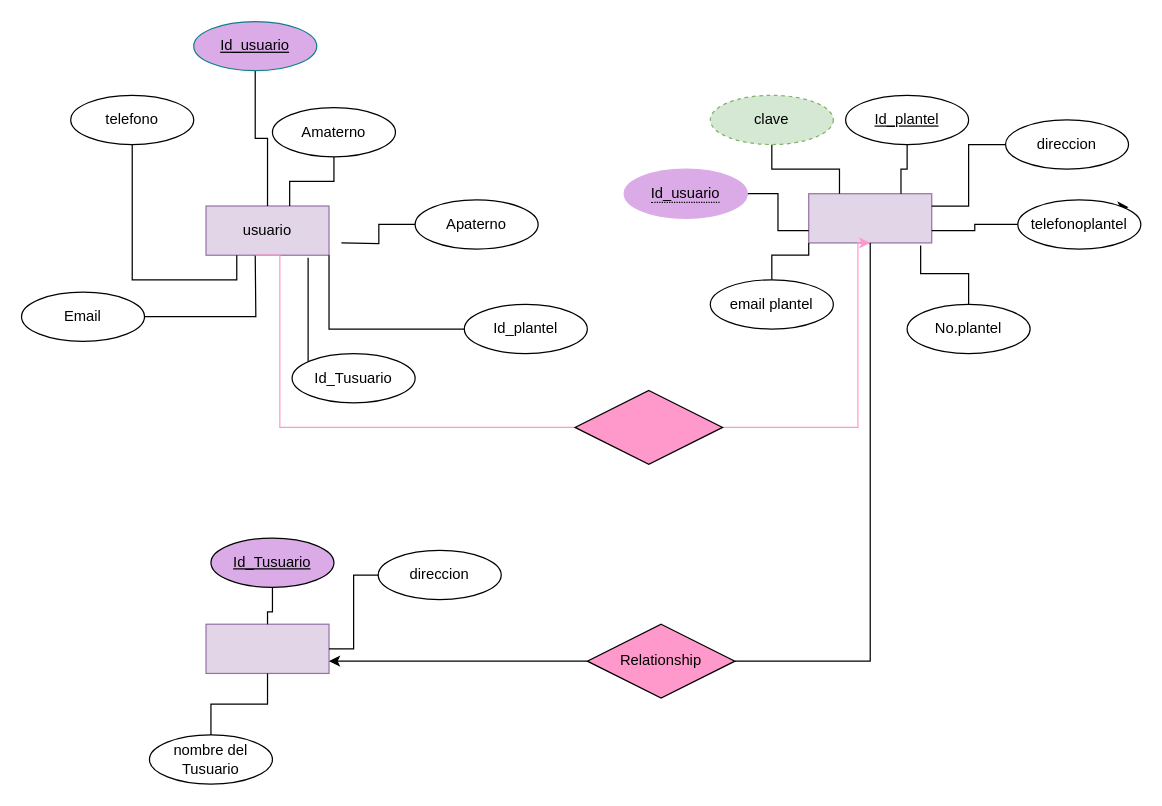
The diagram is 1162 pixels wide and 806 high, and some of its shapes have lost their labels. The centre of each missing label's shape, as x and y in pixels:
plantel: the point at 869,217
tiene: the point at 648,426
Tusurio: the point at 267,648
